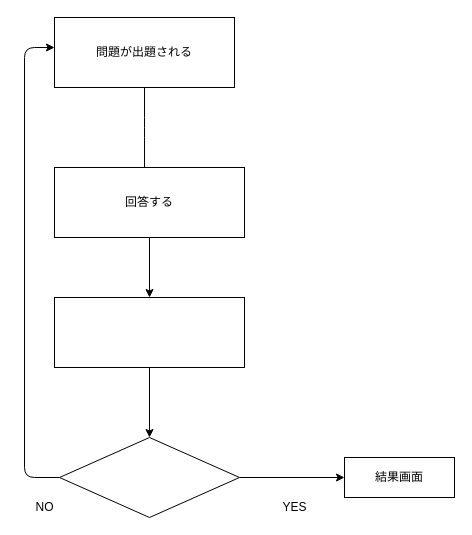
Some shapes in this 472 by 535 pixel diagram are drawn without their labels. The box of each missing label's shape, as (x1, y1, x2, y2) in pixels:
全問終了: (58, 436, 240, 518)
正誤判定する: (54, 296, 244, 368)
